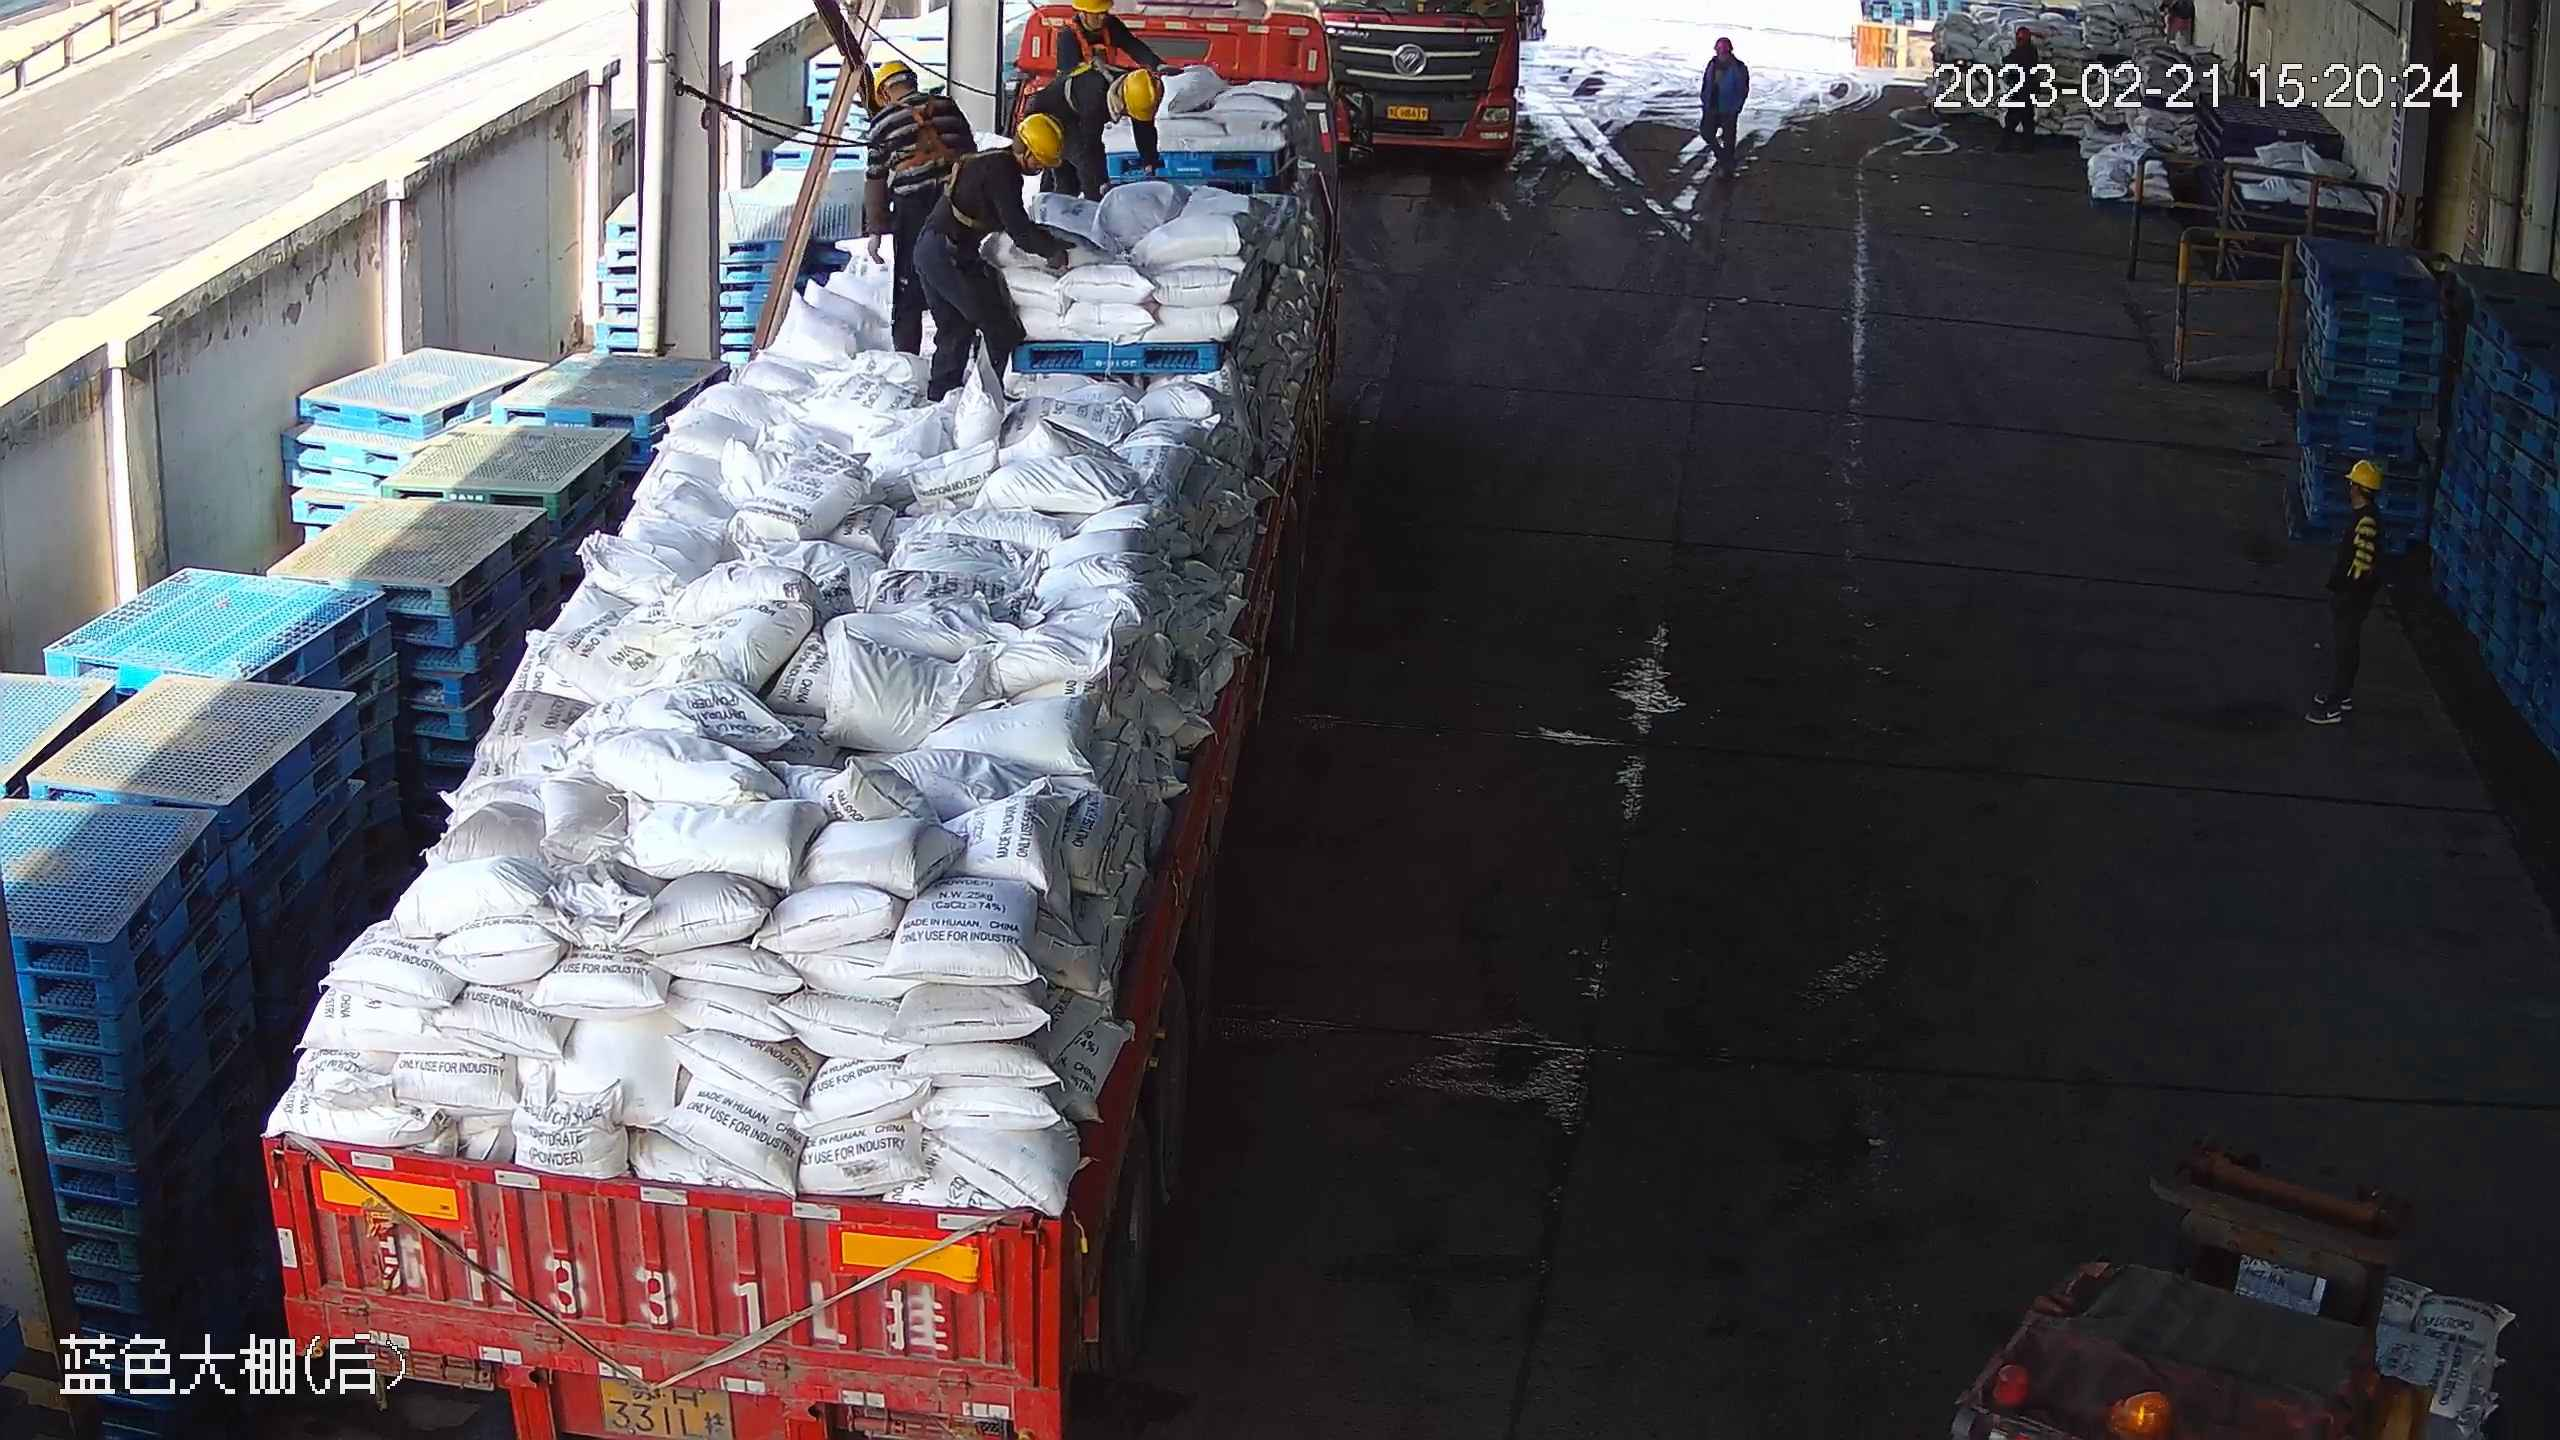belt: (952, 148, 1018, 230), (895, 91, 956, 168), (1058, 10, 1132, 64), (1063, 56, 1124, 118)
head: (952, 117, 1067, 217), (857, 60, 970, 157), (1068, 60, 1161, 138), (2330, 461, 2387, 543), (1059, 1, 1136, 60), (1700, 30, 1749, 88)
helmet: (1013, 110, 1065, 164), (1125, 68, 1170, 122), (869, 60, 919, 99), (2338, 457, 2378, 487), (1714, 34, 1732, 55)
people: (921, 106, 1068, 404), (1325, 4, 1551, 177), (864, 63, 975, 360), (2304, 451, 2389, 735), (1701, 32, 1755, 181)
truck: (238, 1, 1351, 1429)
